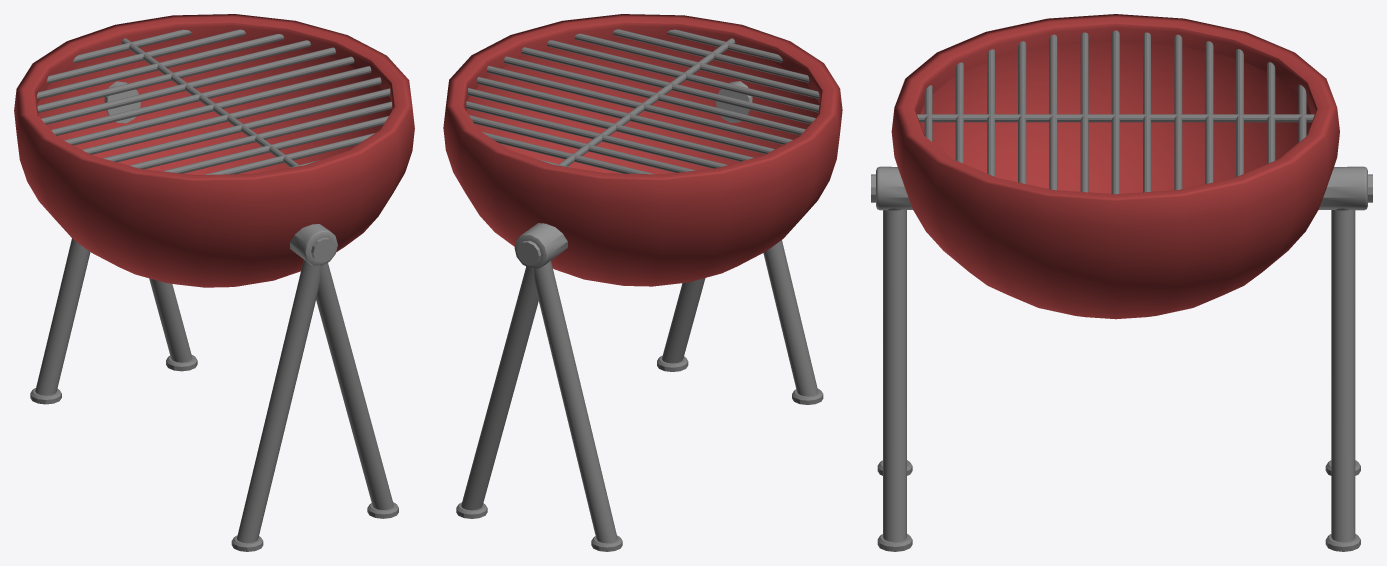
Rendered from barbecue.fbx.
3 renders of one model, left to right at view 1: azimuth 30°, elevation 25°; view 2: azimuth 150°, elevation 25°; view 3: azimuth 270°, elevation 25°, orthographic. The views are drawn at different scales.
Visible parts, largest first — view 1: barbecue; view 2: barbecue; view 3: barbecue.
Boxes of the visible parts, <box> form: barbecue: <box>14,14,414,551</box>; barbecue: <box>443,14,842,551</box>; barbecue: <box>871,14,1372,551</box>.
Size of the model in its own units: 359 by 353 by 402.
